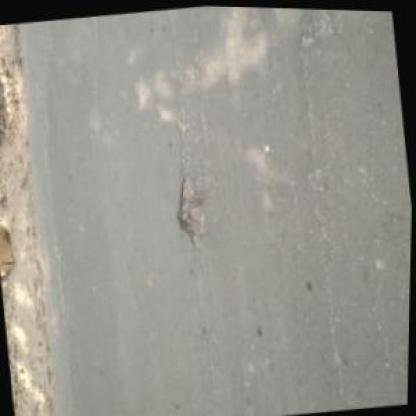pothole: (169, 166, 214, 250)
